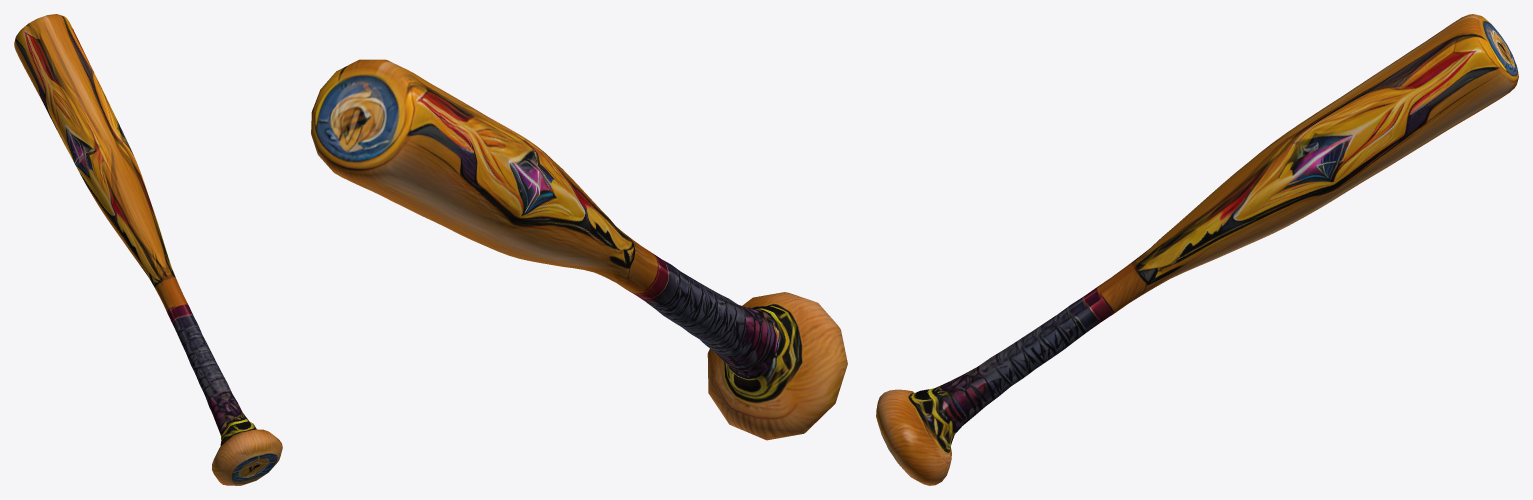
The model's file is Bat.fbx.
The picture shows the model from 3 angles, left to right: view 1: azimuth 30°, elevation 25°; view 2: azimuth 150°, elevation 25°; view 3: azimuth 270°, elevation 25°; orthographic projection. The views are drawn at different scales.
Visible parts, largest first — view 1: tripo_node_5ca4f1d9; view 2: tripo_node_5ca4f1d9; view 3: tripo_node_5ca4f1d9.
Boxes of the visible parts, box(x1,y1,x2,y2) form: tripo_node_5ca4f1d9: box(14, 14, 282, 485); tripo_node_5ca4f1d9: box(311, 59, 847, 440); tripo_node_5ca4f1d9: box(876, 14, 1518, 485).
Size of the model in its own units: 16.2 by 79.27 by 99.93.
1 material, 1 textured.
